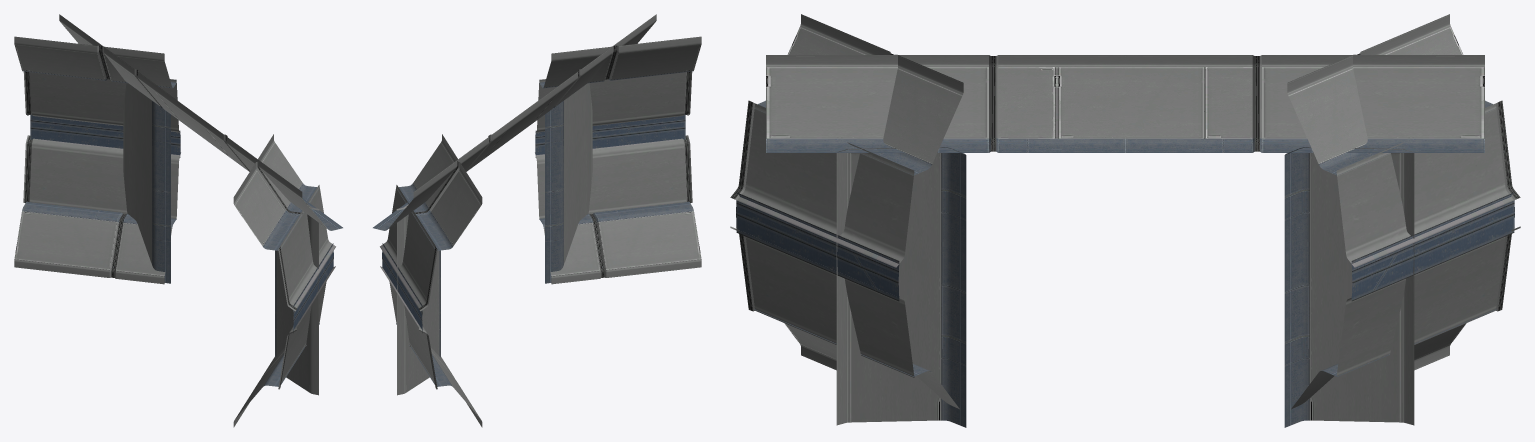
The model's file is Spctr_DoorWall_01.FBX.
3 renders of one model, left to right at view 1: azimuth 30°, elevation 25°; view 2: azimuth 150°, elevation 25°; view 3: azimuth 270°, elevation 25°, orthographic. The views are drawn at different scales.
Parts seen in each view (by area): view 1: Spctr_DoorWall_01; view 2: Spctr_DoorWall_01; view 3: Spctr_DoorWall_01.
Boxes of the visible parts, x1=… form: Spctr_DoorWall_01: x1=14, y1=14, x2=342, y2=427; Spctr_DoorWall_01: x1=373, y1=14, x2=701, y2=427; Spctr_DoorWall_01: x1=730, y1=14, x2=1520, y2=427.
Size of the model in its own units: 2.44 by 4 by 8.4.
